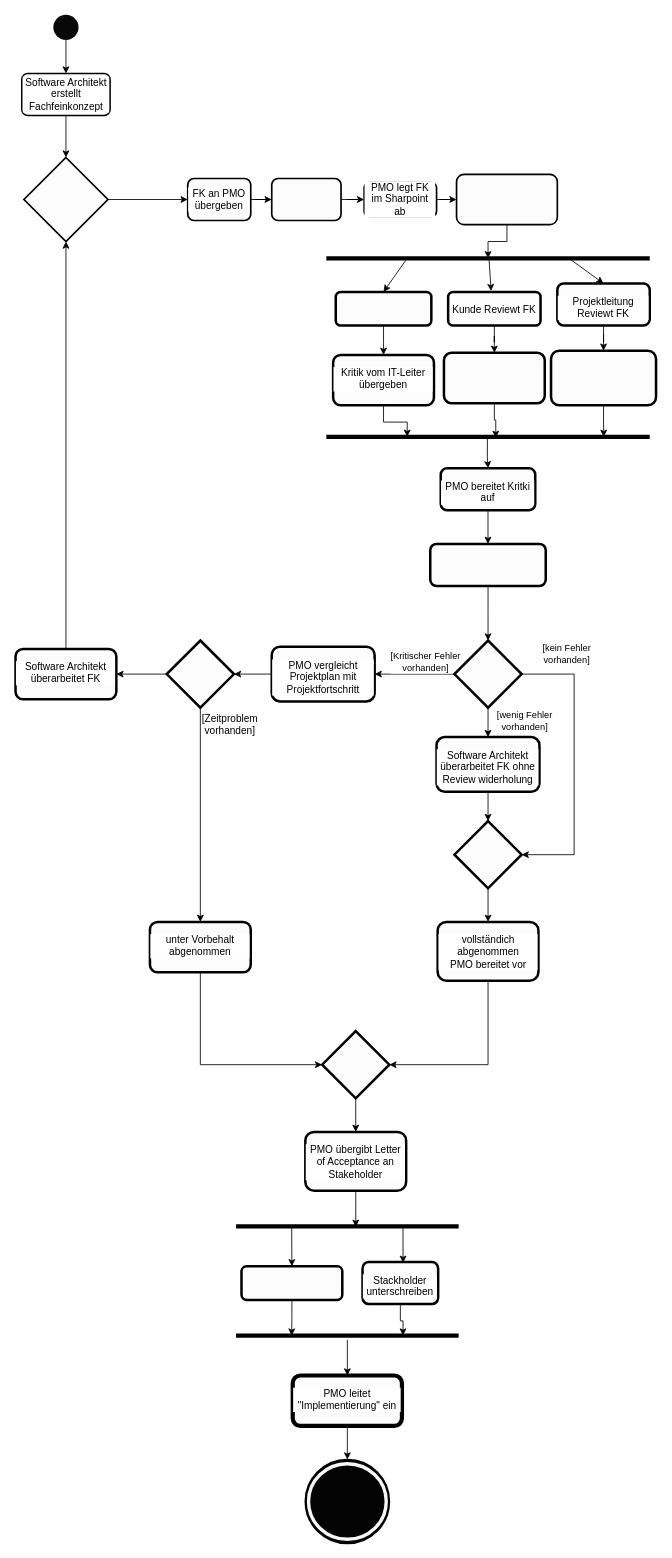
The diagram is 672 pixels wide and 1558 high, and some of its shapes have lost their labels. Here are the shapes that lost their labels. From the top down, the box of each, then its label:
(270, 177, 341, 221): PMO berreitet FK auf
(455, 173, 558, 225): Stakeholder werden für Review benachrichtig
(334, 290, 432, 326): IT-Leiter Reviewt FK
(442, 351, 546, 404): Kritik vom Kunden übergeben
(549, 349, 657, 406): Kritik vom Projektleitung übergeben
(429, 542, 547, 587): PMO erstellt Gesamte Bewertung
(240, 1265, 343, 1301): Kunde Unterschreibt
